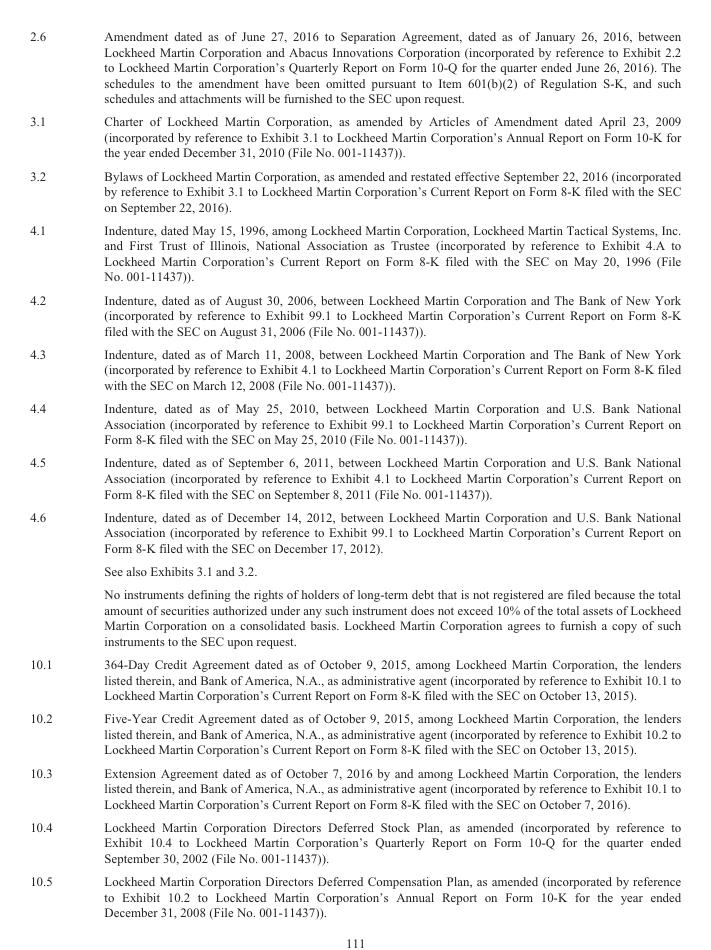table: (29, 28, 680, 918)
table column: (77, 28, 680, 918), (29, 28, 77, 918)
table row: (29, 28, 680, 109), (29, 582, 680, 652), (29, 218, 680, 287), (29, 163, 680, 218), (29, 287, 680, 342), (29, 504, 680, 559), (29, 814, 680, 869), (29, 109, 680, 163), (29, 342, 680, 396), (29, 396, 680, 450), (29, 450, 680, 504), (29, 652, 680, 706), (29, 706, 680, 760), (29, 760, 680, 814), (29, 869, 680, 918), (29, 559, 680, 582)
table spanning cell: (29, 504, 77, 652)
